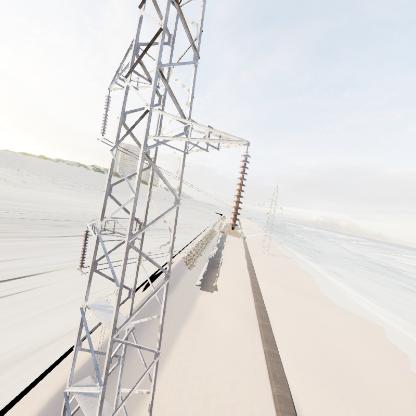insulator: (227, 151, 255, 235), (99, 86, 113, 140), (78, 226, 91, 273)
